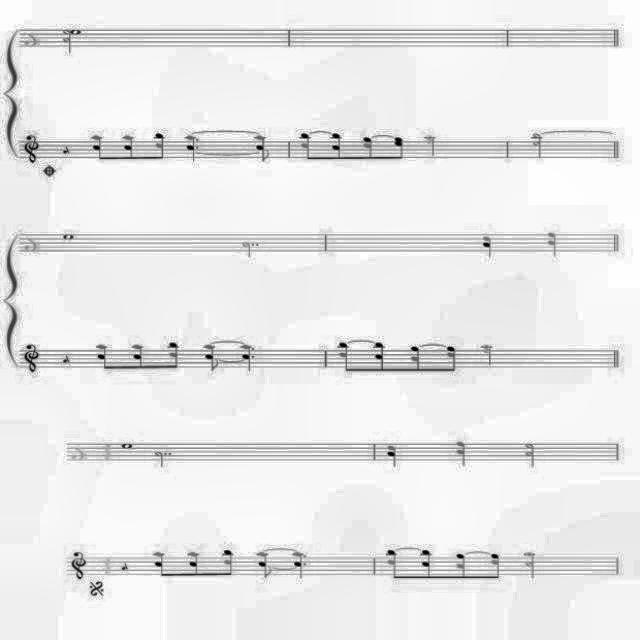Bass-clef: (18, 230, 48, 260), (18, 25, 48, 53), (68, 436, 92, 464)
Eighth-note: (413, 532, 442, 590), (182, 542, 210, 580), (448, 545, 474, 583), (386, 539, 406, 581), (296, 128, 314, 174), (255, 537, 272, 585), (150, 128, 170, 168), (336, 334, 354, 378), (220, 541, 240, 579), (372, 331, 388, 377), (440, 340, 460, 376), (120, 134, 140, 170), (203, 332, 220, 374), (488, 538, 504, 582), (92, 128, 108, 172), (389, 128, 406, 168), (154, 543, 170, 585), (330, 129, 346, 171), (94, 336, 110, 374), (408, 339, 424, 376), (167, 335, 181, 377), (132, 340, 148, 376), (254, 130, 270, 164), (362, 130, 378, 164)
Eighth-rest: (58, 349, 74, 367), (59, 139, 72, 159), (117, 560, 133, 574)
Full-note: (120, 433, 140, 453), (60, 229, 76, 243)
Half-note: (519, 436, 541, 472), (522, 543, 538, 581), (482, 337, 498, 375), (529, 126, 543, 166), (424, 129, 441, 159), (238, 234, 254, 262), (59, 27, 73, 54), (152, 449, 168, 466)
Quarter-note: (480, 210, 500, 262), (453, 435, 473, 477), (292, 542, 308, 584), (545, 223, 561, 265), (184, 131, 200, 167), (386, 434, 400, 470), (240, 336, 252, 376)
Treble-clef: (18, 337, 46, 379), (22, 128, 46, 172), (66, 546, 88, 582)
